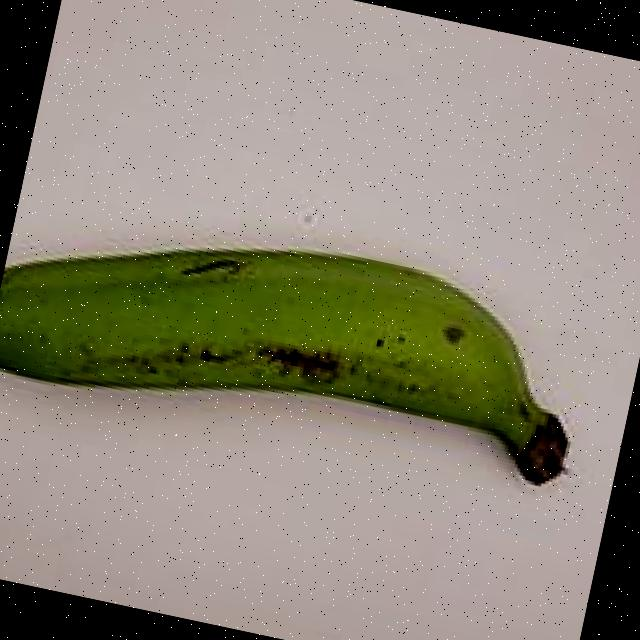Raw: (0, 152, 631, 541)
